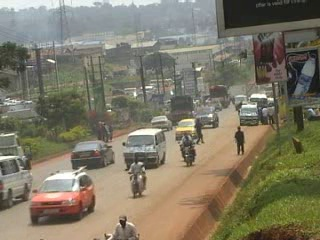Car: (28, 163, 96, 223), (68, 138, 118, 168), (173, 115, 202, 145), (188, 106, 221, 130), (148, 112, 174, 132)
Motorcycle: (123, 159, 150, 199), (180, 139, 199, 167), (175, 133, 193, 158)
